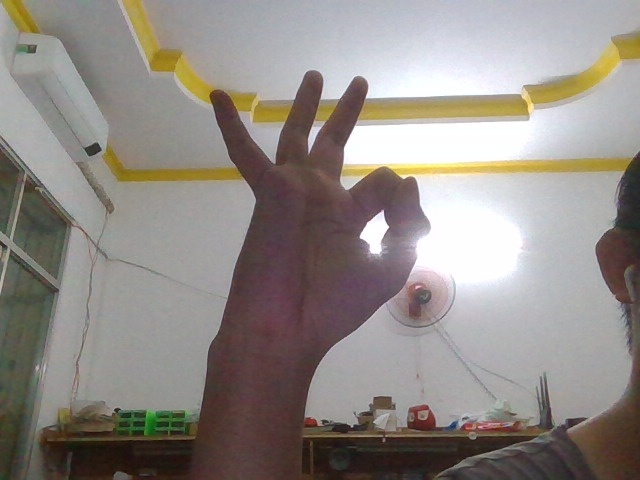okay: (179, 54, 445, 377)
